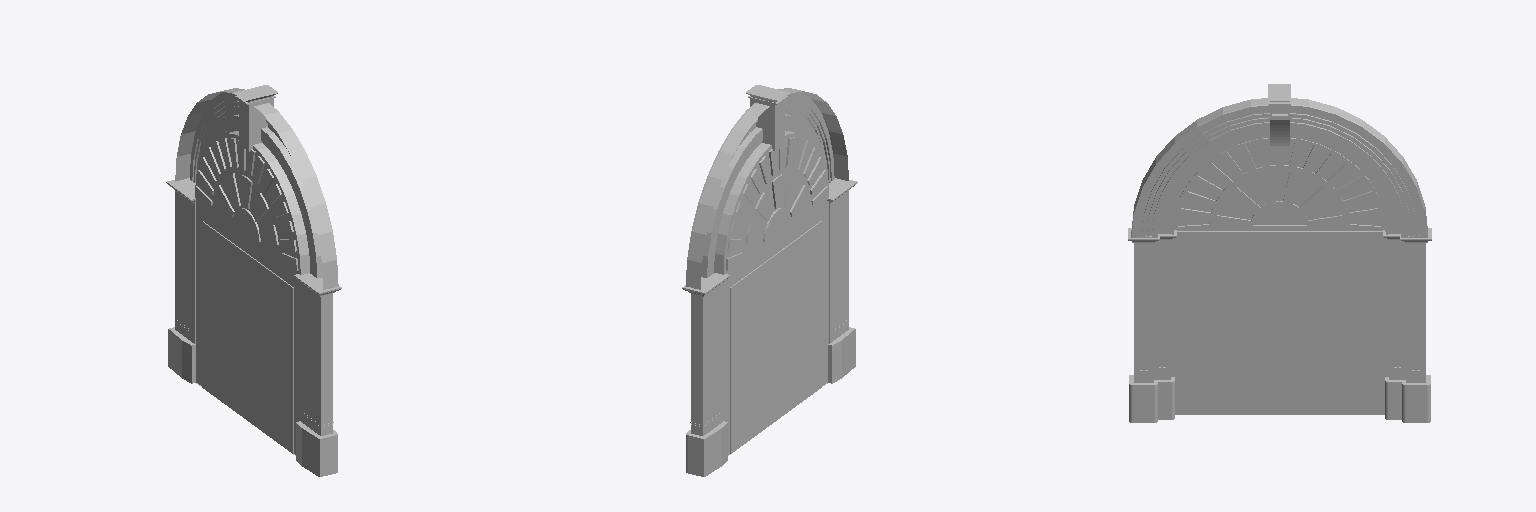
Rendered from EntranceDoors.obj.
3 views of the same model, side by side, from view 1: azimuth 30°, elevation 25°; view 2: azimuth 150°, elevation 25°; view 3: azimuth 270°, elevation 25° (orthographic).
Visible parts, largest first — view 1: Cube.001_Cube.017; view 2: Cube.001_Cube.017; view 3: Cube.001_Cube.017.
Part boxes in pixels (bbox=[...]): Cube.001_Cube.017: bbox=[166, 85, 341, 476]; Cube.001_Cube.017: bbox=[682, 85, 857, 476]; Cube.001_Cube.017: bbox=[1128, 84, 1431, 422].
Bounding box in the file's own units: 0.5487 × 5 × 4.23.